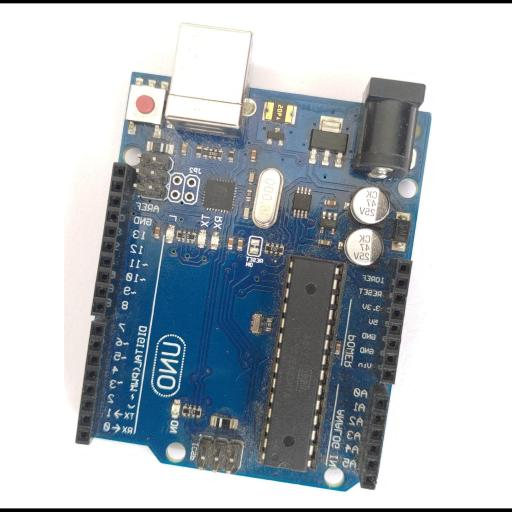Arduino Uno R3: (74, 22, 433, 494)
